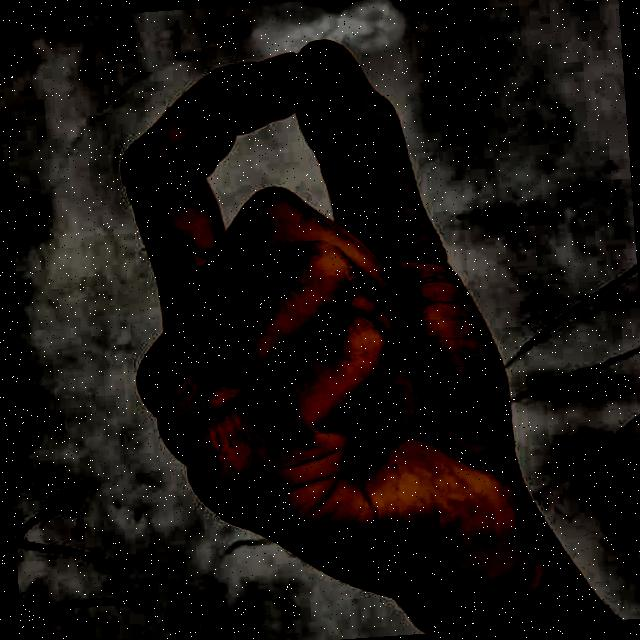Gha: (62, 6, 599, 640)
